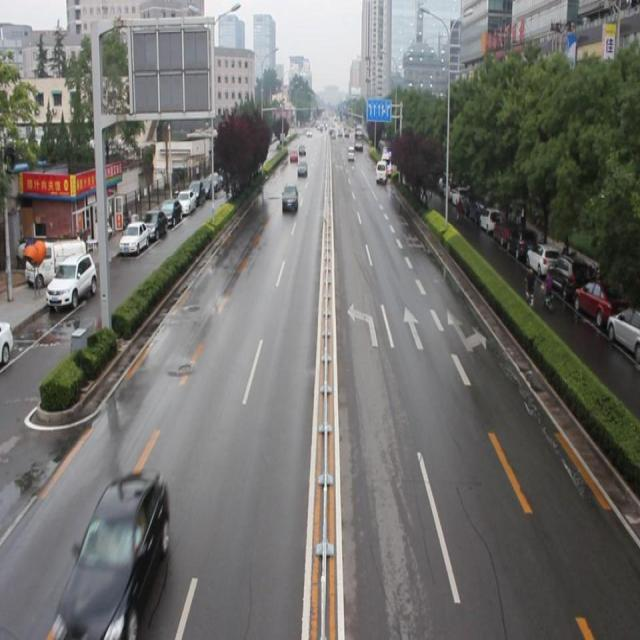car: (54, 468, 171, 640), (281, 181, 299, 211), (296, 157, 308, 177)
truck: (374, 160, 386, 186)
